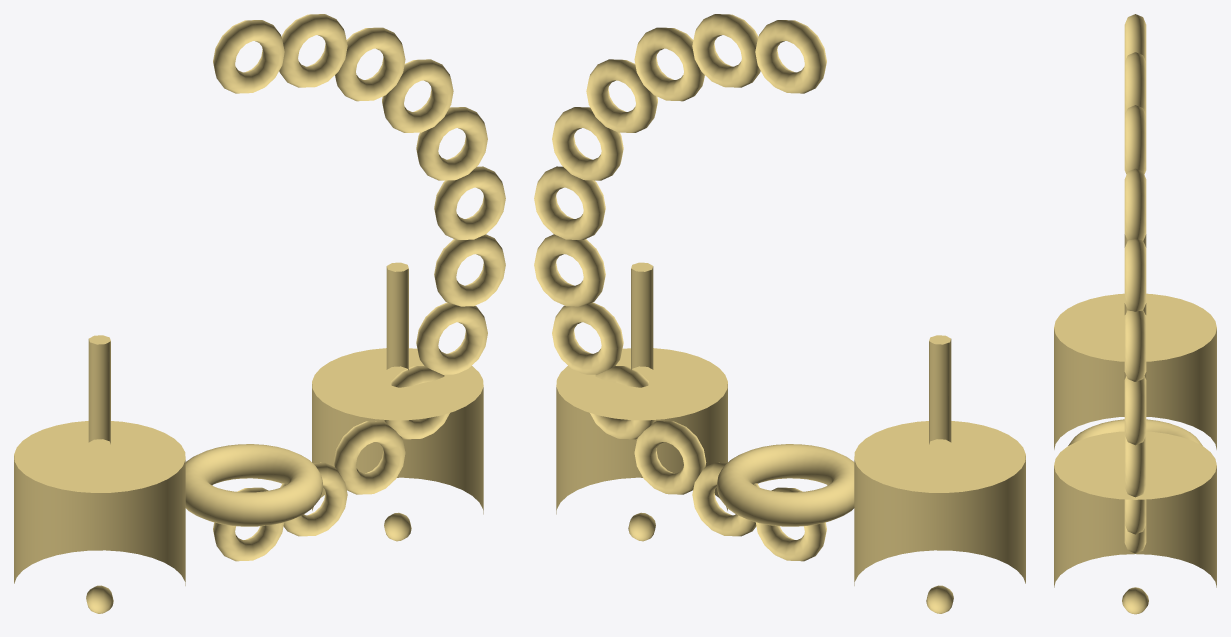
The model's file is test-bridal-set.glb.
3 views of the same model, side by side, from view 1: azimuth 30°, elevation 25°; view 2: azimuth 150°, elevation 25°; view 3: azimuth 270°, elevation 25° (orthographic). The views are drawn at different scales.
Parts seen in each view (by area): view 1: Model; view 2: Model; view 3: Model.
Boxes of the visible parts, left/top/right/bottom form: Model: left=14, top=14, right=505, bottom=613; Model: left=534, top=14, right=1025, bottom=613; Model: left=1054, top=14, right=1216, bottom=614.
Size of the model in its own units: 38.62 by 42.8 by 12.
